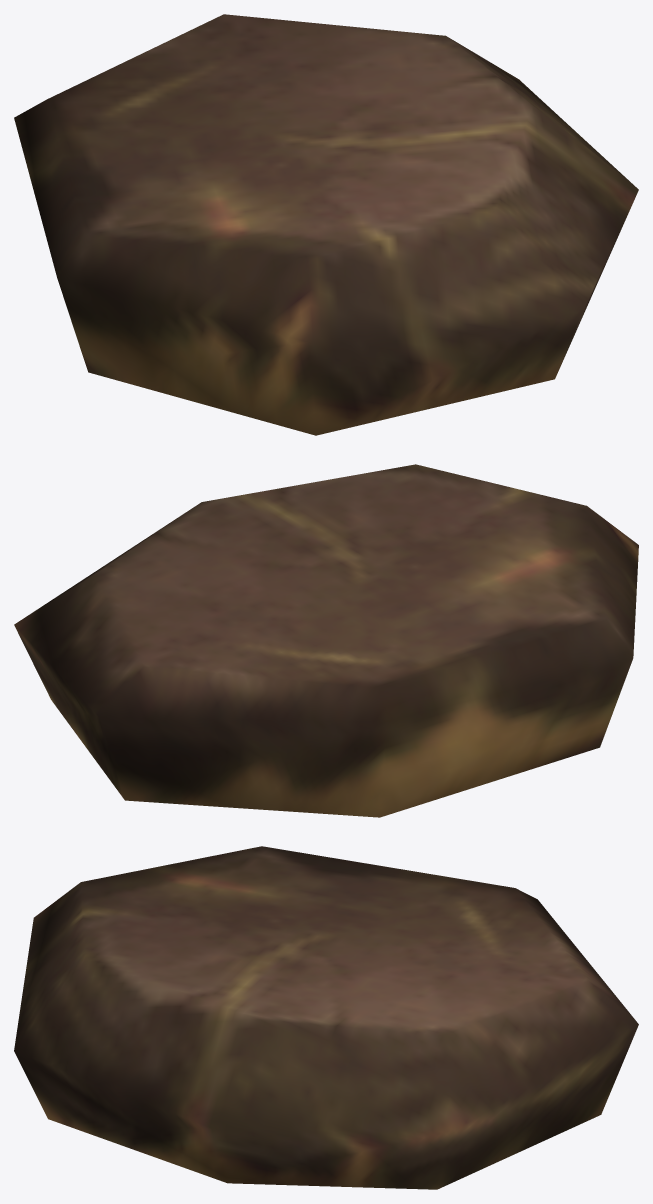
File: common_yewai_shamoshidui03.FBX
3 renders of one model, top to bottom at view 1: azimuth 30°, elevation 25°; view 2: azimuth 150°, elevation 25°; view 3: azimuth 270°, elevation 25°, orthographic. The views are drawn at different scales.
Visible parts, largest first — view 1: common_yewai_shamoshidui03; view 2: common_yewai_shamoshidui03; view 3: common_yewai_shamoshidui03.
Part boxes in pixels (x1,y1,x2,y2): common_yewai_shamoshidui03: [14, 14, 638, 435]; common_yewai_shamoshidui03: [14, 464, 638, 817]; common_yewai_shamoshidui03: [14, 846, 638, 1189].
Bounding box in the file's own units: 1.58 × 1.7 × 0.4302.
